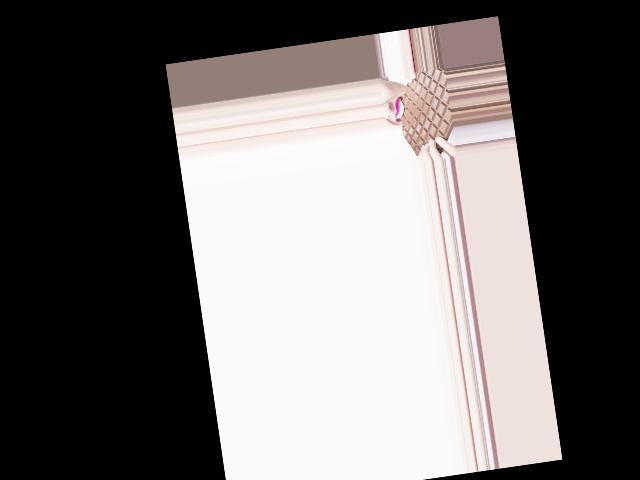chocolate: (392, 68, 458, 164)
